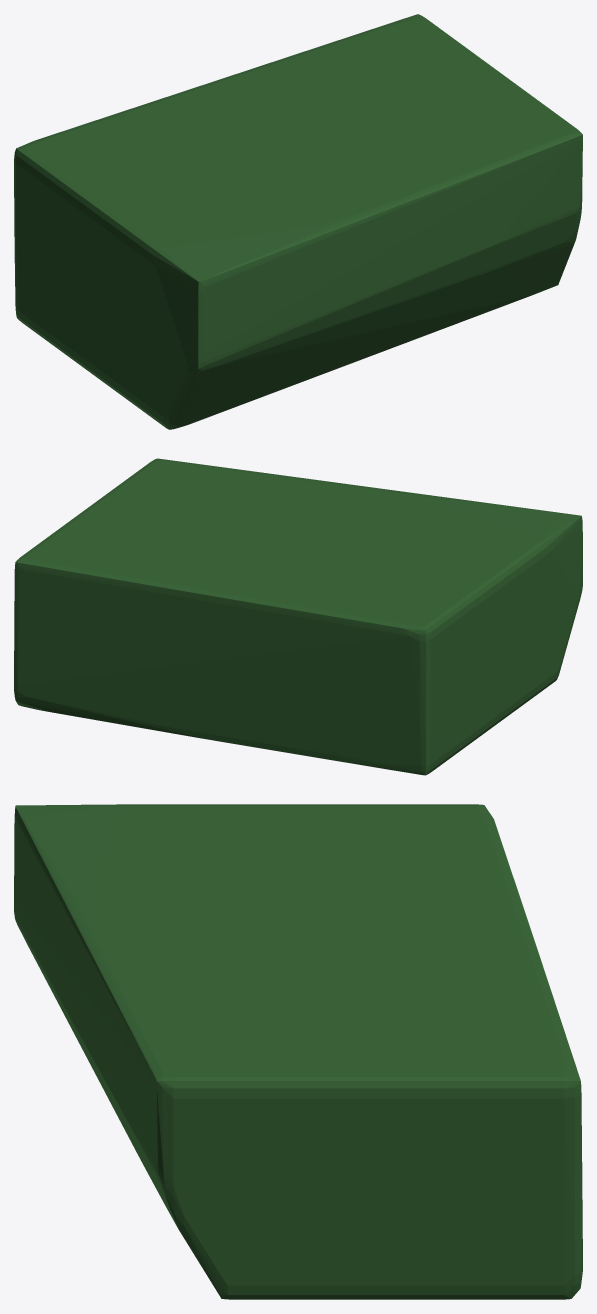
Rendered from left-elbow-0_part_19.obj.
The picture shows the model from 3 angles, top to bottom: view 1: azimuth 30°, elevation 25°; view 2: azimuth 150°, elevation 25°; view 3: azimuth 270°, elevation 25°; orthographic projection. The views are drawn at different scales.
Bounding box in the file's own units: 0.0556 × 0.0204 × 0.0477.
